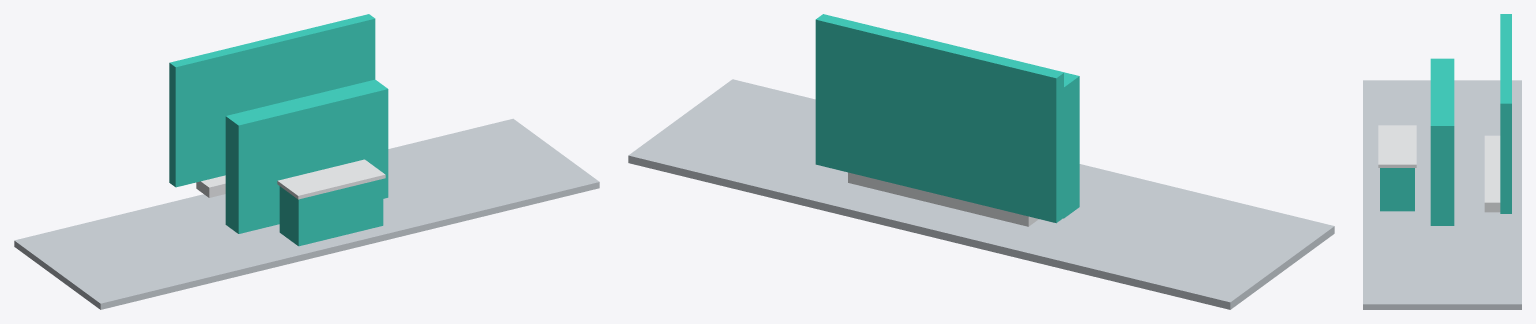
3 renders of one model, left to right at view 1: azimuth 30°, elevation 25°; view 2: azimuth 150°, elevation 25°; view 3: azimuth 270°, elevation 25°, orthographic. The views are drawn at different scales.
Parts seen in each view (by area): view 1: Exhibition Booth Concept; view 2: Exhibition Booth Concept; view 3: Exhibition Booth Concept.
Part boxes in pixels (x1,y1,x2,y2): Exhibition Booth Concept: (14,14,599,309); Exhibition Booth Concept: (628,14,1334,309); Exhibition Booth Concept: (1363,14,1521,309).
Size of the model in its own units: 10 by 2.9 by 3.
